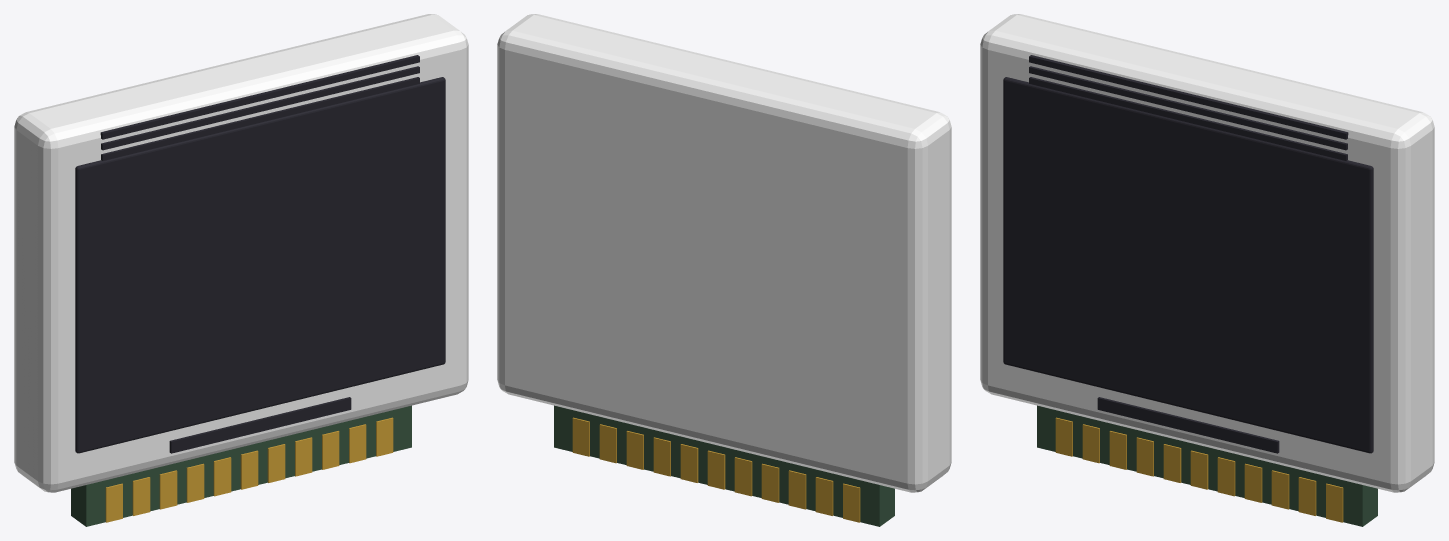
File: game-cartridge.glb
The picture shows the model from 3 angles, left to right: view 1: azimuth 30°, elevation 25°; view 2: azimuth 150°, elevation 25°; view 3: azimuth 330°, elevation 25°; orthographic projection.
Visible parts, largest first — view 1: game-cartridge; view 2: game-cartridge; view 3: game-cartridge.
Boxes of the visible parts, left/top/right/bottom form: game-cartridge: left=14, top=14, right=468, bottom=526; game-cartridge: left=497, top=14, right=951, bottom=526; game-cartridge: left=980, top=14, right=1434, bottom=526.
Bounding box in the file's own units: 2.3 × 2.1 × 0.36.
Materials: 2 (1 with a texture image).
